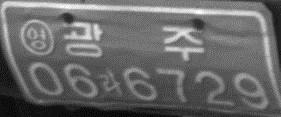0: (28, 61, 62, 96)
2: (194, 70, 233, 105)
6: (63, 62, 98, 98), (124, 66, 157, 102)
7: (159, 66, 188, 105)
9: (233, 70, 270, 110)
광주_D: (62, 20, 205, 61)
라: (97, 67, 122, 96)
영: (18, 18, 55, 57)
